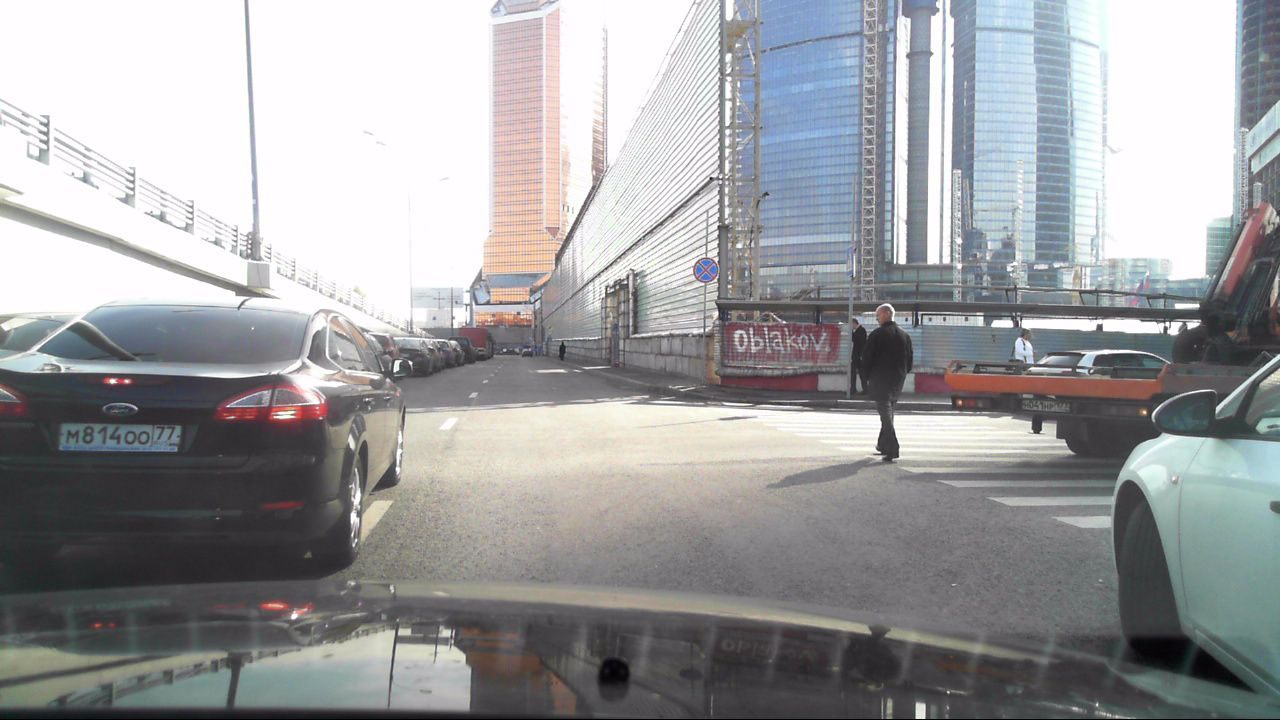No Parking: (692, 257, 720, 284)
